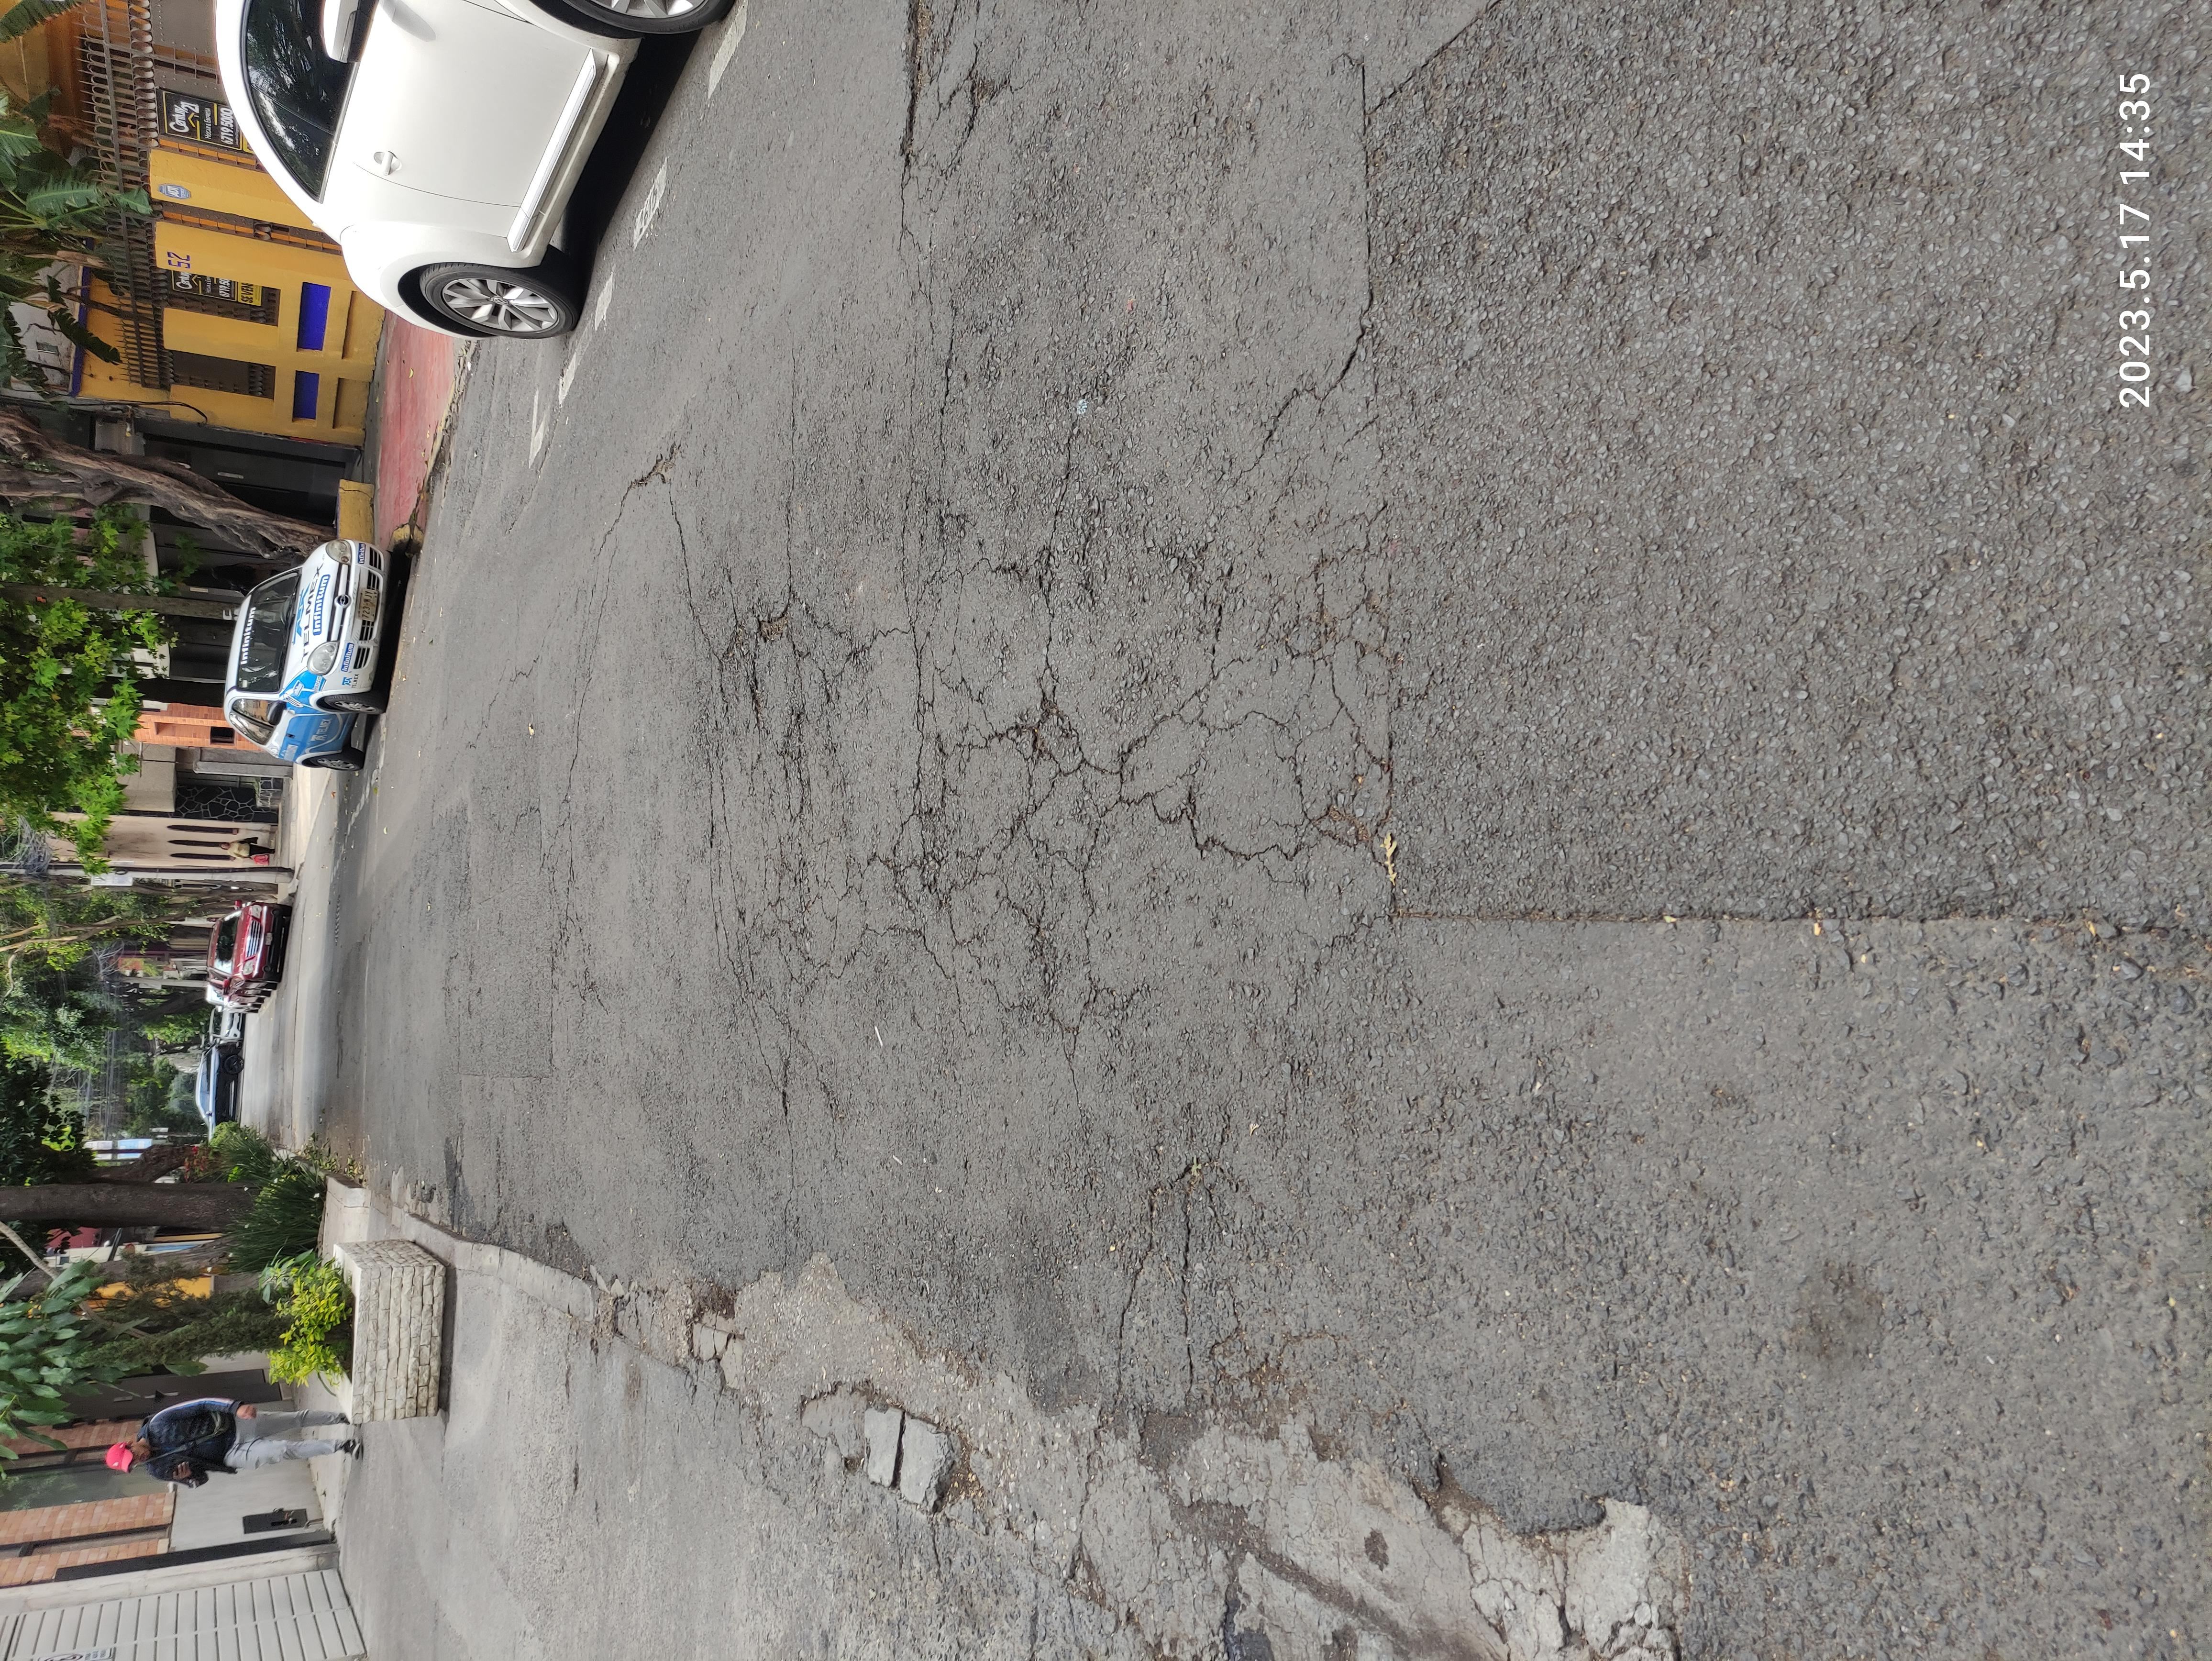alligator-crack: (748, 544, 1732, 1035)
crack: (1886, 658, 2212, 712)
